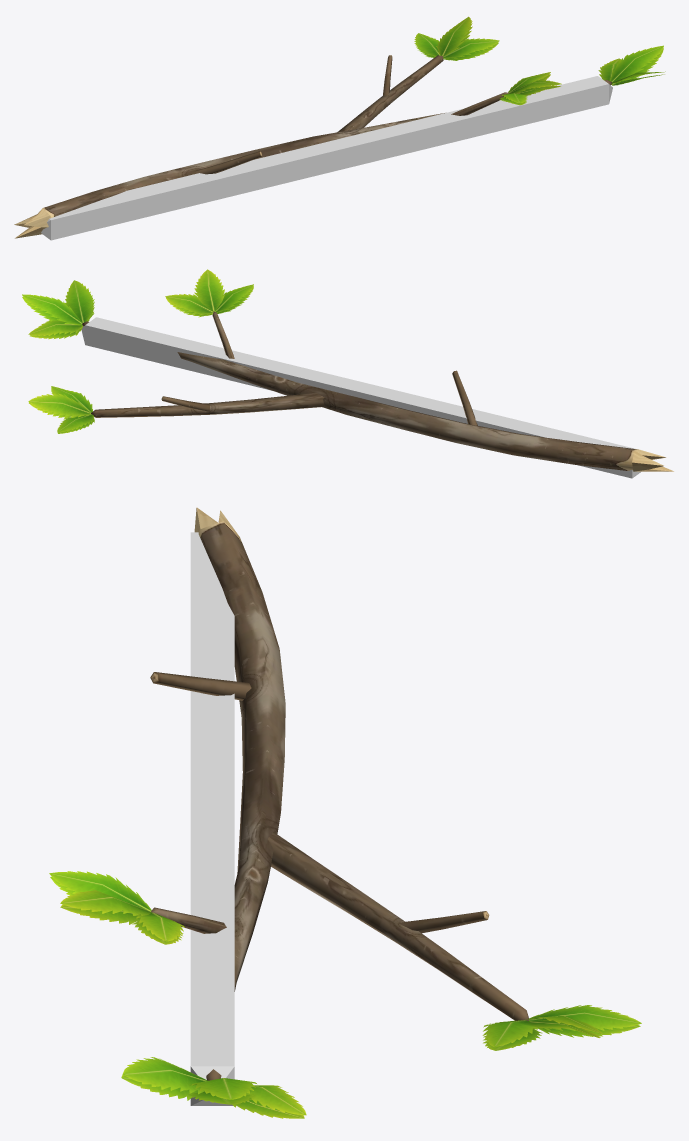
File: IO_Branch_B.glb
3 renders of one model, top to bottom at view 1: azimuth 30°, elevation 25°; view 2: azimuth 150°, elevation 25°; view 3: azimuth 270°, elevation 25°, orthographic. The views are drawn at different scales.
Parts seen in each view (by area): view 1: IO_Branch_B_COL, IO_Branch_B_LOD0, IO_Branch_B_LOD0_Leaves, IO_Branch_B_LOD1_Leaves; view 2: IO_Branch_B_LOD0, IO_Branch_B_COL, IO_Branch_B_LOD0_Leaves, IO_Branch_B_LOD1_Leaves; view 3: IO_Branch_B_LOD0, IO_Branch_B_COL, IO_Branch_B_LOD0_Leaves, IO_Branch_B_LOD1_Leaves.
Part boxes in pixels (x1,y1,x2,y2): IO_Branch_B_COL: [41, 76, 612, 240]; IO_Branch_B_LOD0: [14, 55, 611, 238]; IO_Branch_B_LOD0_Leaves: [414, 16, 665, 103]; IO_Branch_B_LOD1_Leaves: [414, 20, 664, 105]; IO_Branch_B_LOD0: [82, 311, 673, 471]; IO_Branch_B_COL: [81, 317, 640, 478]; IO_Branch_B_LOD0_Leaves: [22, 269, 253, 432]; IO_Branch_B_LOD1_Leaves: [22, 279, 253, 433]; IO_Branch_B_LOD0: [150, 507, 528, 1080]; IO_Branch_B_COL: [190, 532, 234, 1105]; IO_Branch_B_LOD0_Leaves: [49, 871, 641, 1115]; IO_Branch_B_LOD1_Leaves: [50, 877, 640, 1118].
Size of what is drawn, in the model's own units: 1.76 by 0.1636 by 0.7156.
2 materials, 2 textured.
